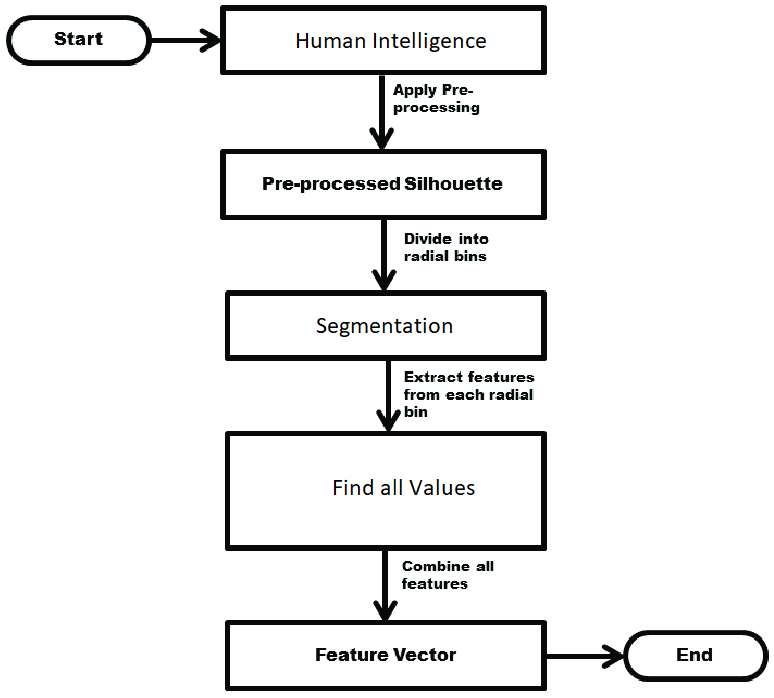arrow: (369, 549, 399, 624), (149, 26, 223, 56), (545, 645, 629, 669), (370, 73, 395, 151), (374, 357, 399, 431), (372, 215, 395, 291)
process: (221, 428, 551, 552), (217, 146, 550, 224), (218, 2, 551, 78), (222, 616, 550, 693), (222, 286, 550, 363)
terminator: (621, 628, 769, 686), (6, 13, 153, 68)
text: (400, 366, 542, 419), (258, 173, 506, 193), (294, 31, 490, 55), (401, 226, 494, 264), (400, 557, 496, 592), (390, 82, 484, 117), (330, 474, 478, 496), (314, 314, 454, 337), (313, 647, 458, 665), (51, 29, 105, 48), (672, 645, 716, 665)
